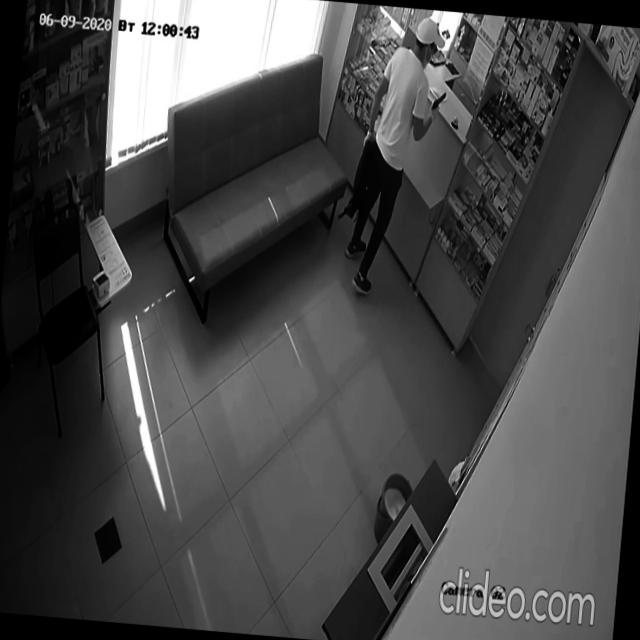gun: (431, 90, 446, 112)
person with a gun: (340, 12, 452, 302)
